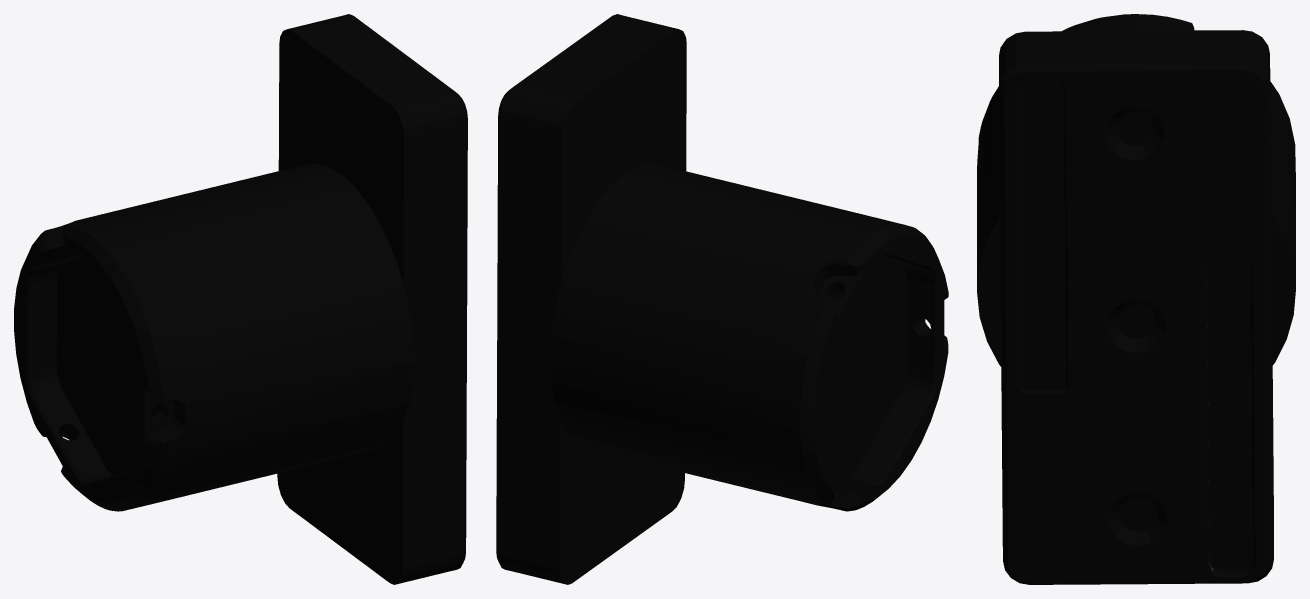
Rendered from right_gripper_link.usd.sapien.glb.
3 views of the same model, side by side, from view 1: azimuth 30°, elevation 25°; view 2: azimuth 150°, elevation 25°; view 3: azimuth 270°, elevation 25° (orthographic). The views are drawn at different scales.
Parts seen in each view (by area): view 1: Mesh; view 2: Mesh; view 3: Mesh.
Boxes of the visible parts, box(x1,y1,x2,y2) form: Mesh: box(14, 14, 467, 584); Mesh: box(496, 14, 948, 584); Mesh: box(977, 14, 1295, 584).
Size of the model in its own units: 0.0767 by 0.1083 by 0.06.
1 material, 1 textured.
